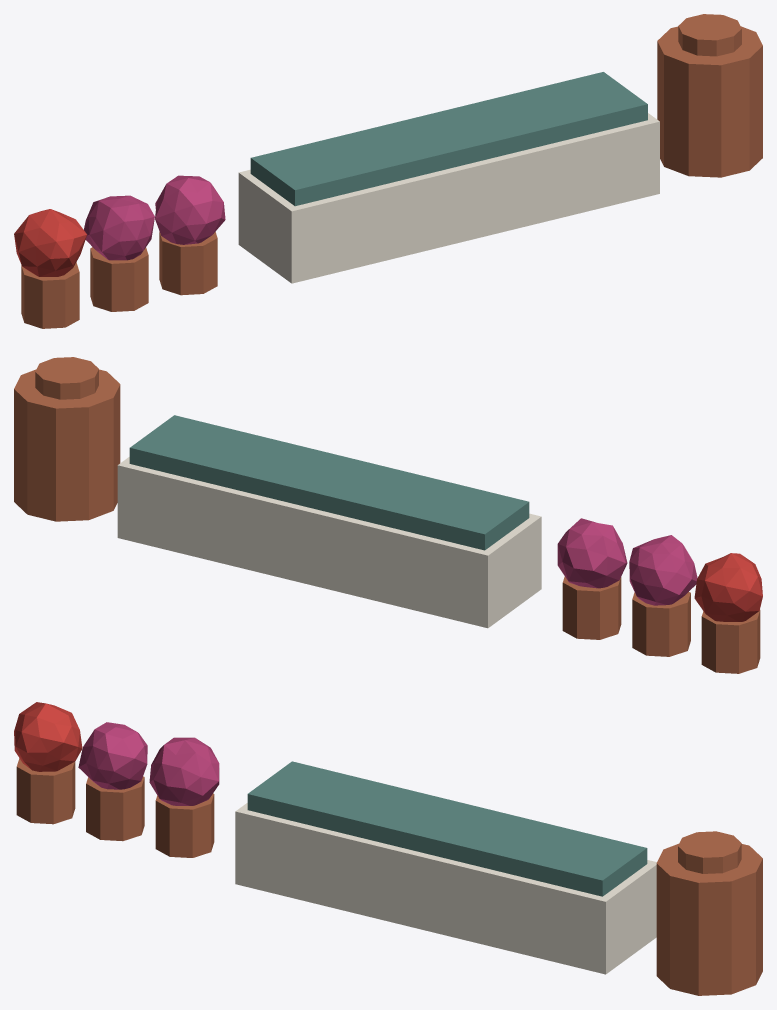
The model's file is oturma-kosesi.glb.
3 views of the same model, one above another, from view 1: azimuth 30°, elevation 25°; view 2: azimuth 150°, elevation 25°; view 3: azimuth 330°, elevation 25° (orthographic).
Visible parts, largest first — view 1: badana, saksi, kepenk2, begonvil, cicek; view 2: badana, saksi, kepenk2, begonvil, cicek; view 3: badana, saksi, kepenk2, begonvil, cicek.
Part boxes in pixels (bbox=[...]): badana: bbox=[238, 113, 659, 283]; saksi: bbox=[21, 14, 762, 328]; kepenk2: bbox=[250, 72, 647, 206]; begonvil: bbox=[84, 175, 225, 260]; cicek: bbox=[14, 209, 87, 276]; badana: bbox=[117, 457, 541, 628]; saksi: bbox=[14, 357, 760, 673]; kepenk2: bbox=[129, 415, 529, 550]; begonvil: bbox=[557, 518, 697, 605]; cicek: bbox=[694, 553, 762, 621]; badana: bbox=[235, 803, 656, 974]; saksi: bbox=[16, 758, 762, 995]; kepenk2: bbox=[247, 761, 647, 896]; begonvil: bbox=[78, 722, 219, 805]; cicek: bbox=[14, 702, 82, 771].
Size of the model in its own units: 4.81 by 0.8001 by 0.6001.
